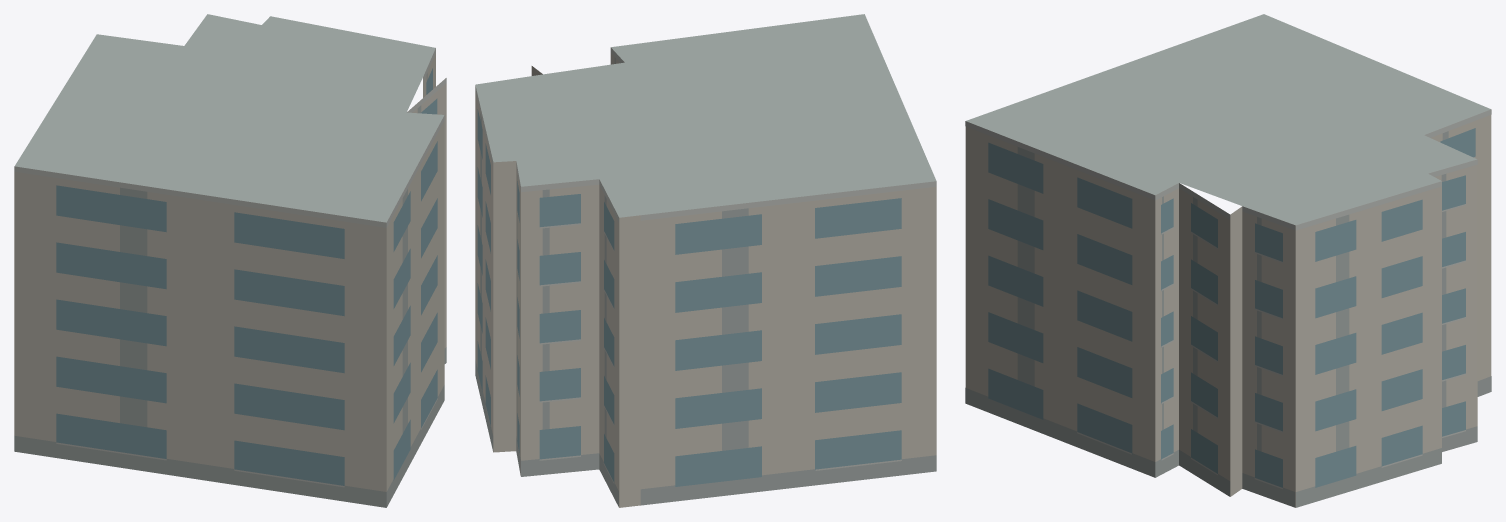
Rendered from residential-3e0ade11-9550-4a7c-bfcf-7a8477aec376.glb.
3 views of the same model, side by side, from view 1: azimuth 30°, elevation 25°; view 2: azimuth 150°, elevation 25°; view 3: azimuth 270°, elevation 25° (orthographic). The views are drawn at different scales.
Visible parts, largest first — view 1: residential-3e0ade11-9550-4a7c-bfcf-7a8477aec376.tmp; view 2: residential-3e0ade11-9550-4a7c-bfcf-7a8477aec376.tmp; view 3: residential-3e0ade11-9550-4a7c-bfcf-7a8477aec376.tmp.
Boxes of the visible parts, left/top/right/bottom form: residential-3e0ade11-9550-4a7c-bfcf-7a8477aec376.tmp: left=14, top=14, right=446, bottom=507; residential-3e0ade11-9550-4a7c-bfcf-7a8477aec376.tmp: left=475, top=14, right=936, bottom=507; residential-3e0ade11-9550-4a7c-bfcf-7a8477aec376.tmp: left=965, top=14, right=1491, bottom=507.
Size of the model in its own units: 20.87 by 13 by 21.94.
